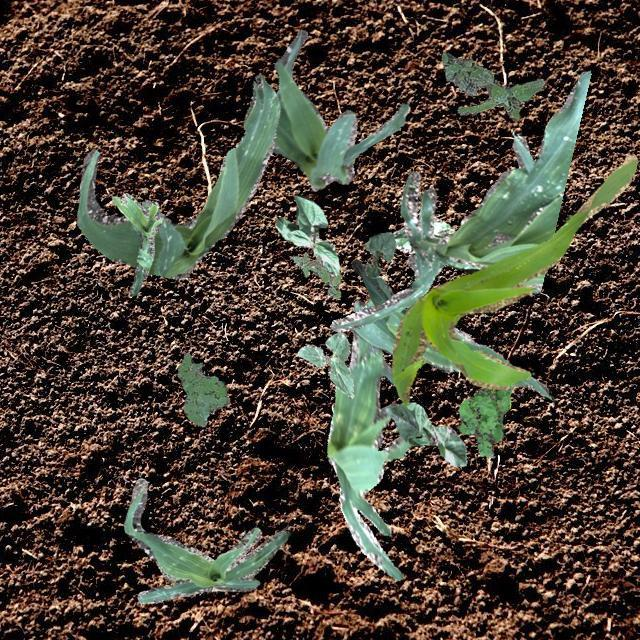crop: (330, 70, 590, 330), (390, 154, 636, 406), (75, 74, 278, 278), (350, 258, 552, 398), (326, 298, 409, 580), (271, 28, 408, 190), (122, 478, 288, 602), (110, 192, 162, 294), (384, 402, 466, 466), (274, 194, 338, 276), (392, 216, 479, 272), (296, 331, 352, 396), (362, 230, 394, 276)
weed: (440, 52, 544, 120), (456, 384, 512, 456), (176, 352, 228, 426), (292, 252, 341, 298)
